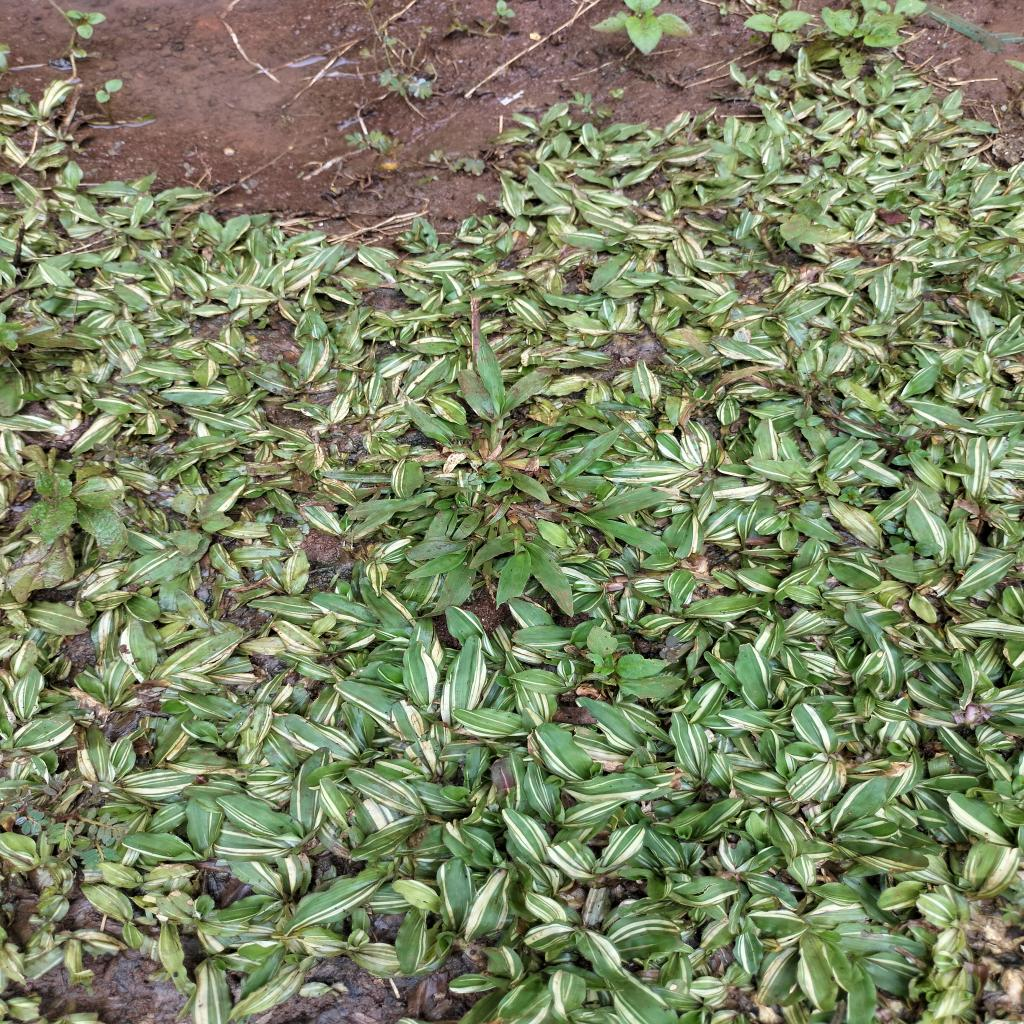bayi: (81, 976, 97, 996), (292, 299, 304, 314)
buah daun: (0, 775, 131, 872), (427, 147, 488, 178), (380, 68, 434, 101), (342, 128, 398, 156), (568, 91, 616, 120), (654, 632, 684, 666)
rambat bawah: (455, 329, 556, 462), (465, 519, 578, 620), (511, 421, 626, 502), (561, 485, 676, 557), (340, 488, 440, 542), (484, 460, 553, 506)
tunggang besar: (582, 622, 690, 702), (822, 1, 909, 81), (588, 0, 697, 56), (741, 9, 818, 57)
